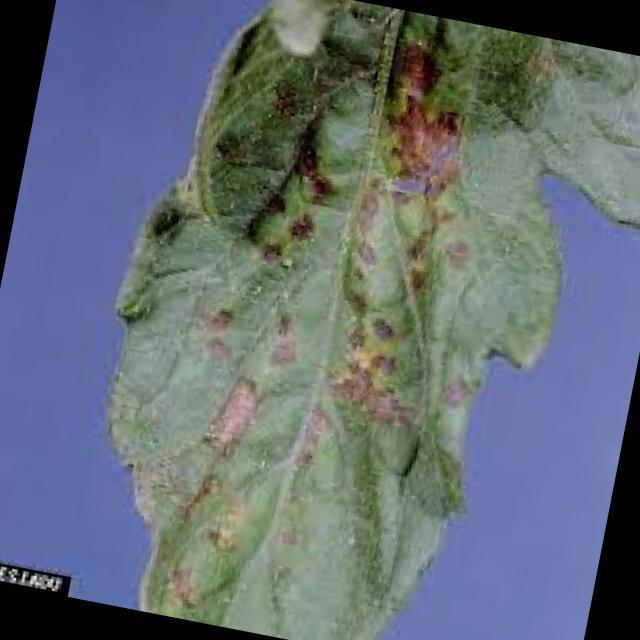Bacterial Spot: (150, 30, 526, 640)
